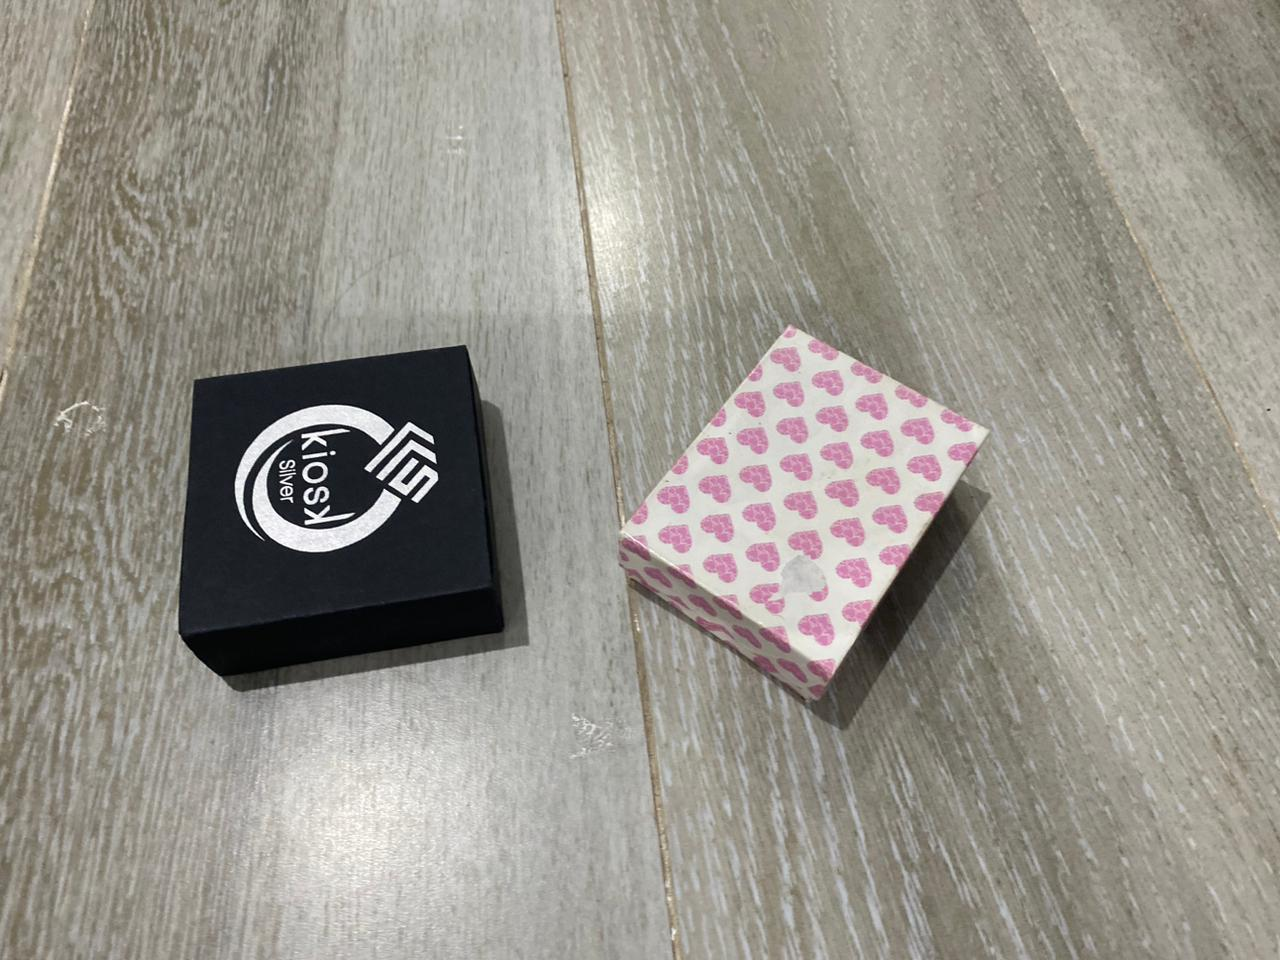Pink Box: (614, 321, 1001, 706)
Red Box: (174, 343, 507, 683)
